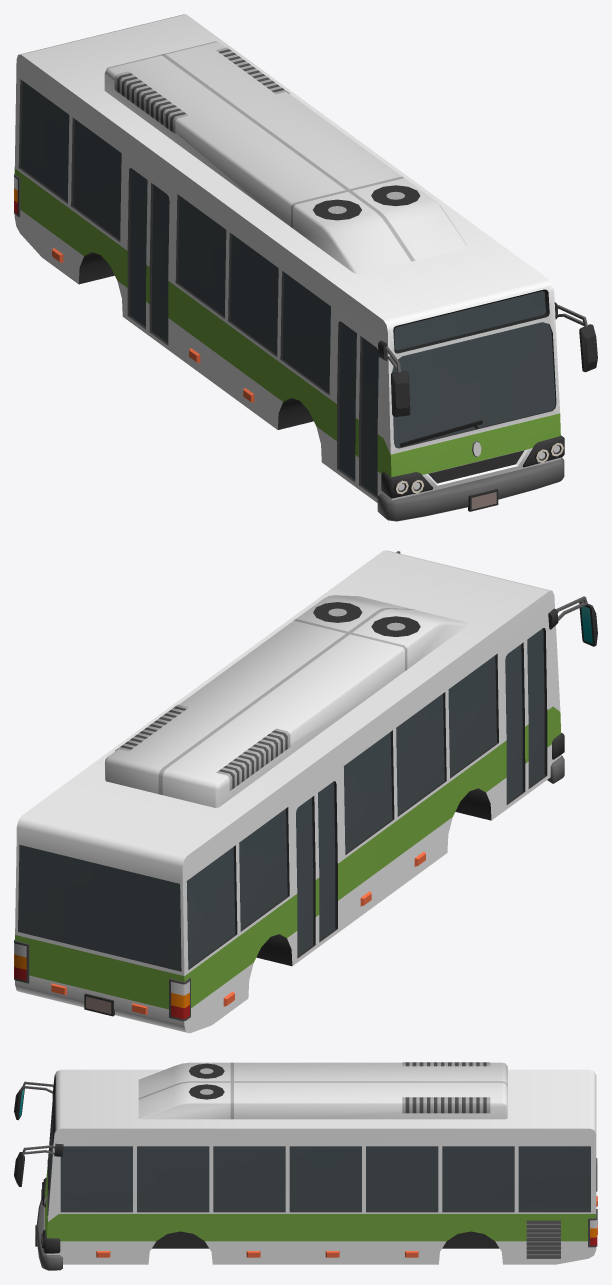
Rendered from bus_001.glb.
3 views of the same model, one above another, from view 1: azimuth 30°, elevation 25°; view 2: azimuth 150°, elevation 25°; view 3: azimuth 270°, elevation 25° (orthographic). The views are drawn at different scales.
Parts seen in each view (by area): view 1: bus_001; view 2: bus_001; view 3: bus_001.
Part boxes in pixels (bbox=[...]): bus_001: bbox=[14, 14, 597, 521]; bus_001: bbox=[14, 550, 597, 1033]; bus_001: bbox=[14, 1062, 597, 1270].
Bounding box in the file's own units: 3.29 × 3.38 × 11.19.
3 materials, 3 textured.
